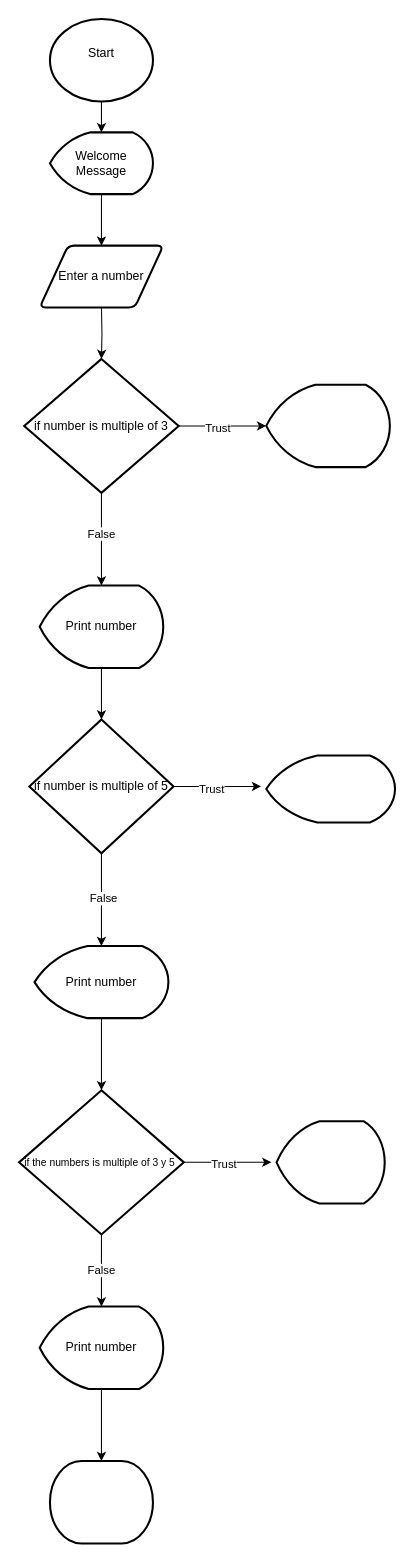
The diagram is 413 pixels wide and 1561 high, and some of its shapes have lost their labels. The centre of each missing label's shape, as x and y in pixels:
End: [100,1502]
FizzBuzz: [330,1162]
Print "Fizz": [327,425]
Print Buzz: [330,788]
